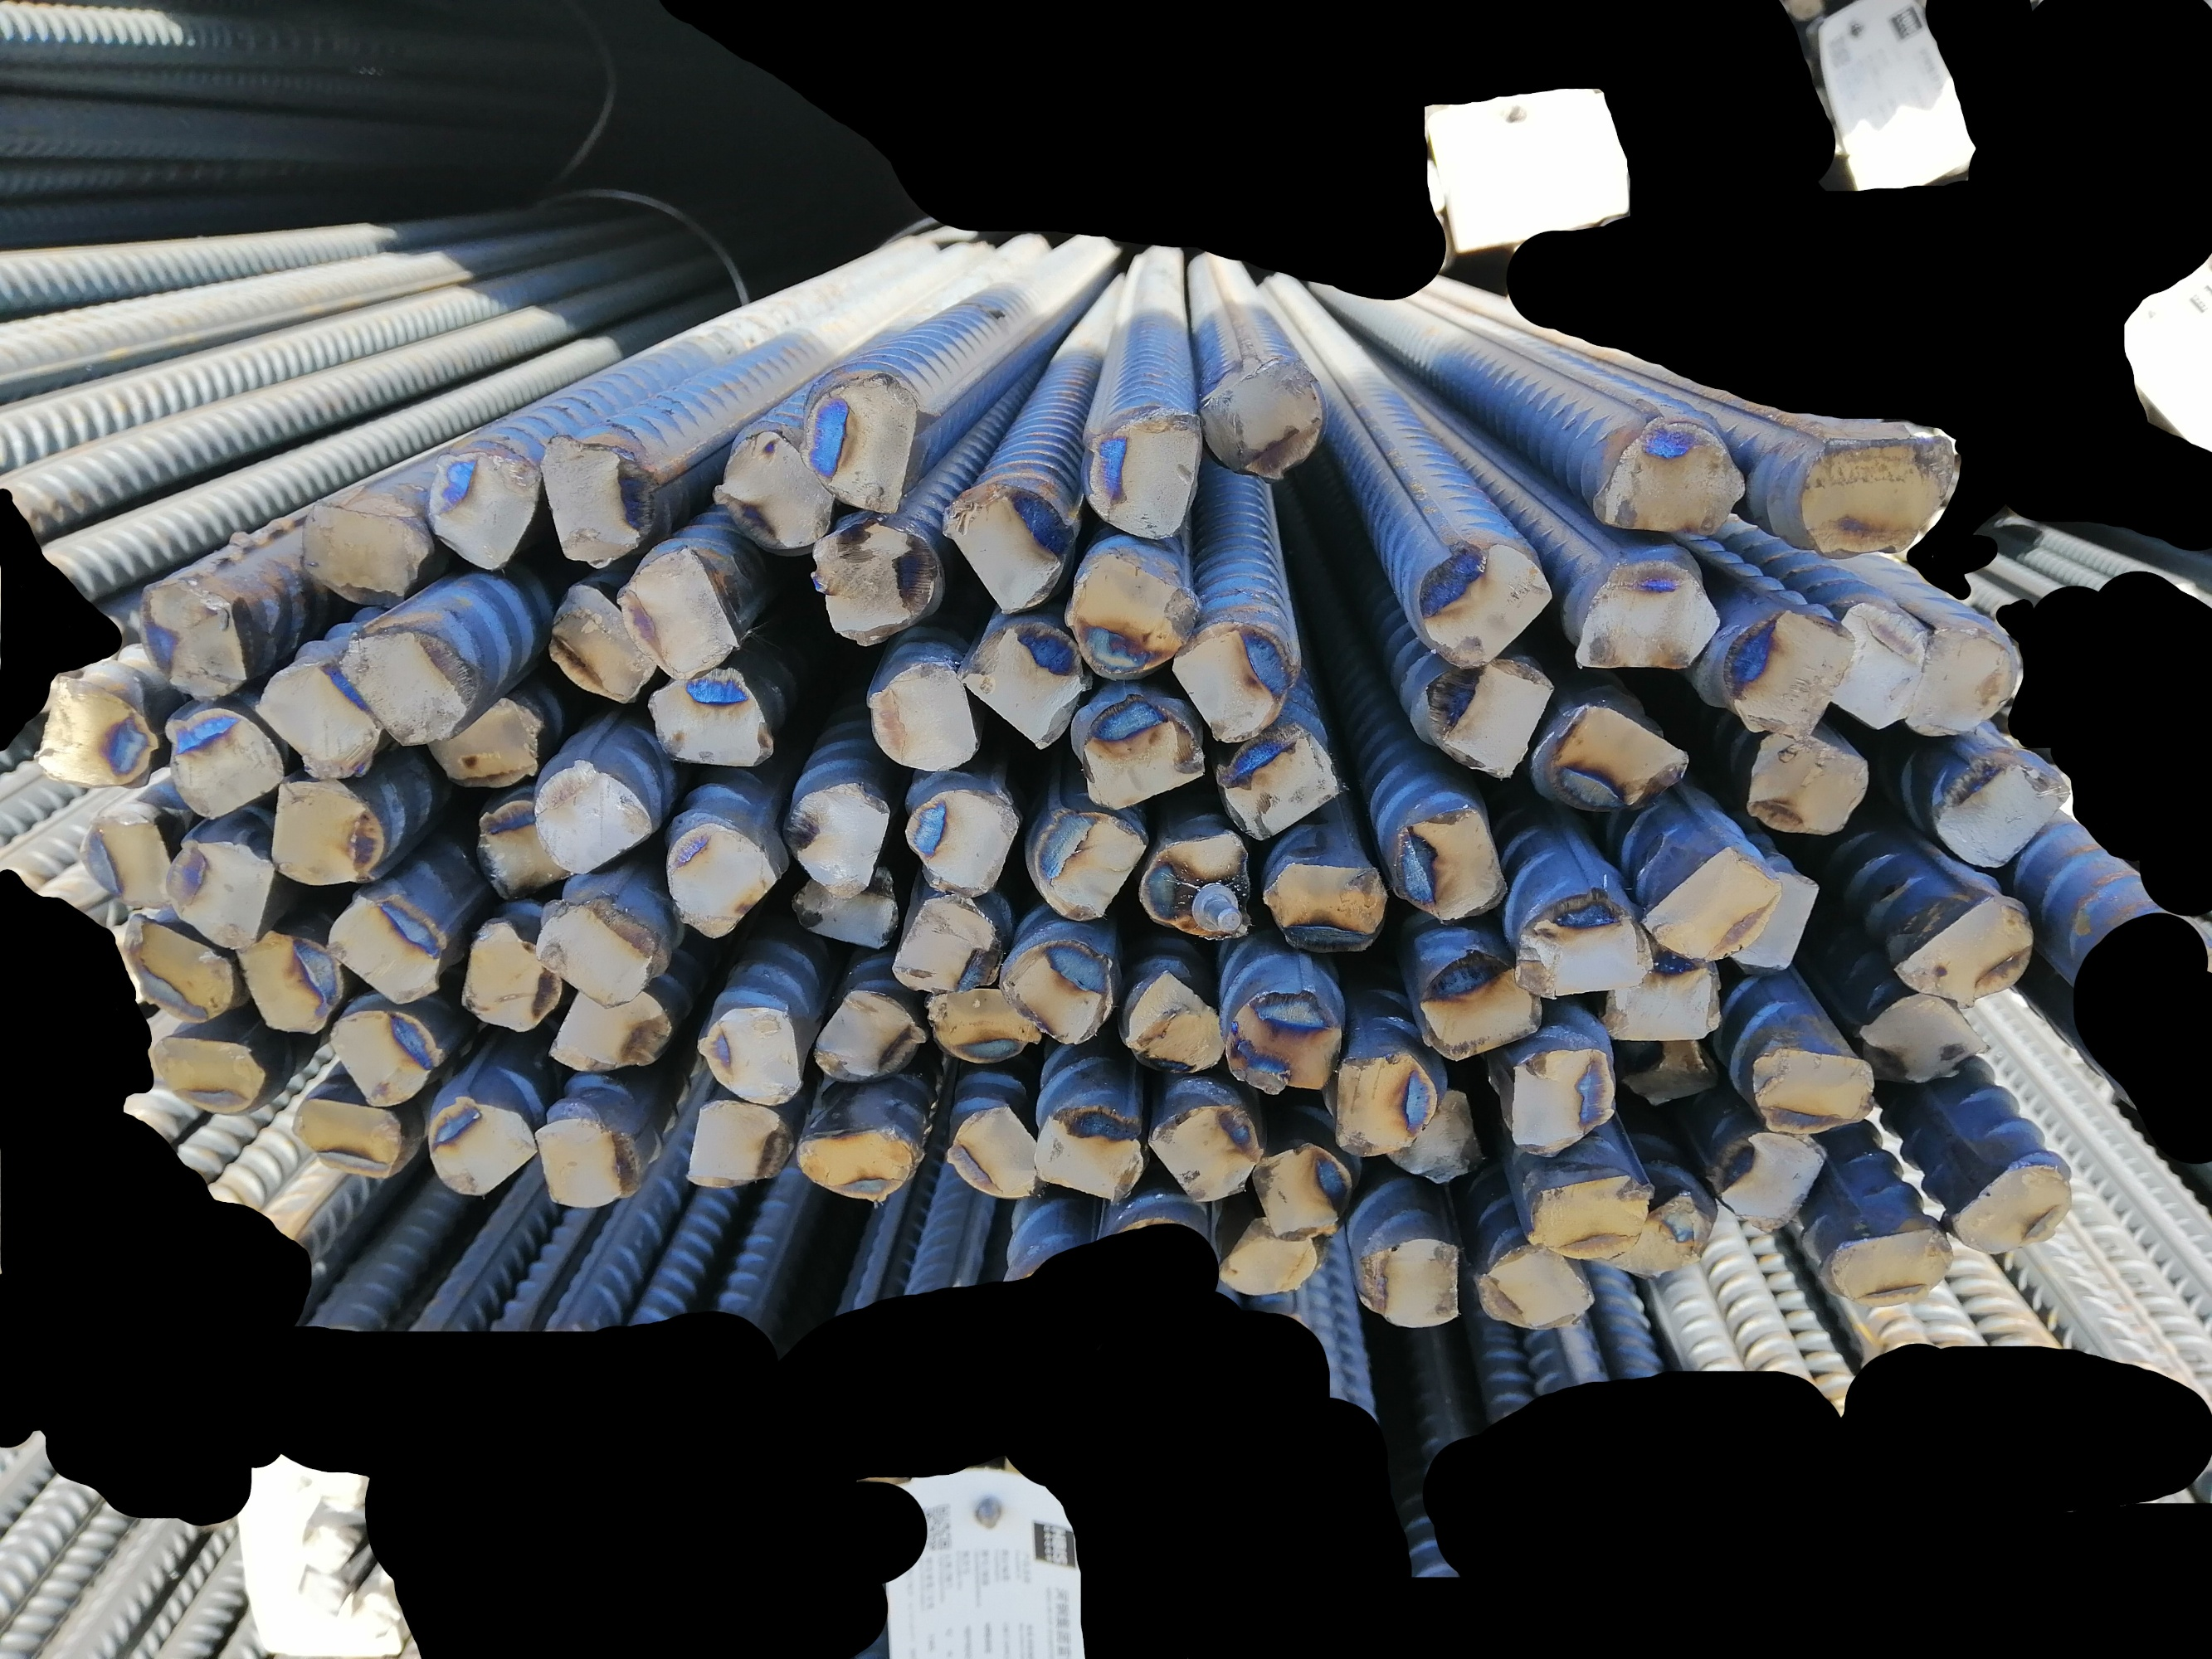rebar: (1579, 406, 1748, 545), (1792, 430, 1963, 559), (1719, 599, 1860, 742), (797, 364, 922, 523), (1630, 843, 1785, 967), (1886, 889, 2039, 1012), (333, 624, 481, 751), (1565, 556, 1724, 674), (1062, 545, 1201, 680), (610, 540, 743, 681), (1408, 542, 1557, 667), (802, 516, 941, 648), (1077, 403, 1206, 545), (1415, 655, 1558, 784), (1536, 701, 1693, 817), (955, 620, 1088, 758), (706, 427, 840, 561), (941, 484, 1072, 617), (526, 892, 666, 1016), (1508, 885, 1654, 1002), (535, 432, 657, 572), (1194, 359, 1327, 486), (1164, 620, 1300, 744), (1074, 692, 1210, 814), (248, 664, 382, 786), (1210, 721, 1344, 843), (291, 497, 432, 610), (1931, 756, 2073, 870), (417, 448, 539, 577), (31, 671, 162, 791), (153, 706, 288, 823), (1410, 946, 1546, 1061), (110, 904, 241, 1023), (260, 774, 389, 892), (859, 655, 985, 775), (1822, 599, 1930, 739), (1849, 985, 1996, 1087), (542, 577, 657, 708), (521, 762, 654, 875), (157, 829, 275, 955), (132, 579, 249, 706), (662, 819, 779, 946), (1138, 821, 1255, 948), (1034, 796, 1147, 927), (324, 887, 448, 1006), (774, 777, 892, 901), (1222, 979, 1346, 1098), (1905, 622, 2025, 742), (899, 786, 1025, 901), (643, 666, 777, 772), (1738, 734, 1872, 840), (882, 885, 1008, 997), (999, 934, 1116, 1053), (1700, 1126, 1827, 1234), (1391, 810, 1510, 925), (1745, 1039, 1879, 1140), (1262, 850, 1389, 957), (1522, 1166, 1658, 1263), (424, 692, 554, 793), (227, 929, 345, 1037), (1328, 1044, 1436, 1162), (1121, 958, 1227, 1079), (321, 1006, 444, 1108), (537, 983, 675, 1075), (1025, 1105, 1152, 1204), (1506, 1047, 1619, 1159), (455, 918, 563, 1035), (1945, 1161, 2080, 1253), (692, 1004, 811, 1108), (791, 1121, 929, 1209), (420, 1096, 537, 1201), (1145, 1105, 1265, 1206), (1591, 1187, 1722, 1279), (812, 986, 929, 1087), (1480, 1236, 1598, 1333), (288, 1091, 408, 1187), (1825, 1227, 1959, 1312), (675, 1094, 798, 1187), (1598, 953, 1729, 1040), (467, 795, 572, 903), (1208, 1213, 1327, 1307), (70, 810, 176, 915), (1248, 1140, 1354, 1244), (526, 1119, 647, 1209), (1351, 1237, 1464, 1330), (145, 1032, 267, 1117), (784, 864, 903, 951), (919, 985, 1044, 1065), (1386, 1091, 1490, 1187), (945, 1107, 1044, 1202), (1731, 864, 1820, 971), (1619, 1035, 1720, 1110)
